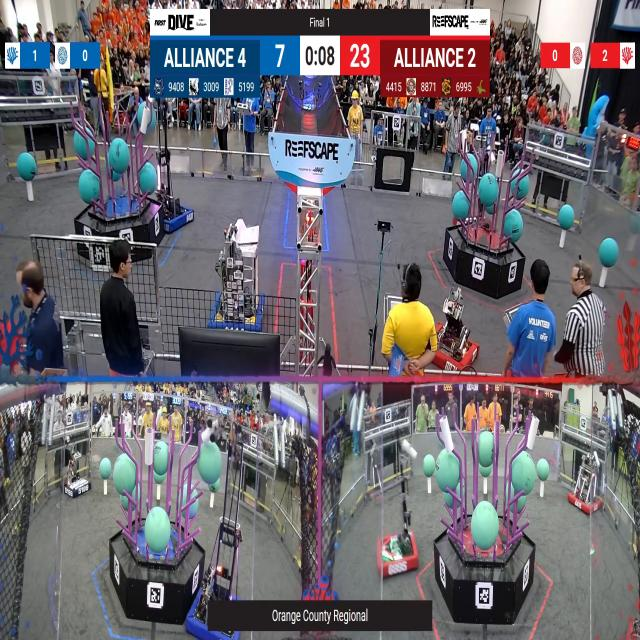scoreboard: (150, 37, 490, 98)
